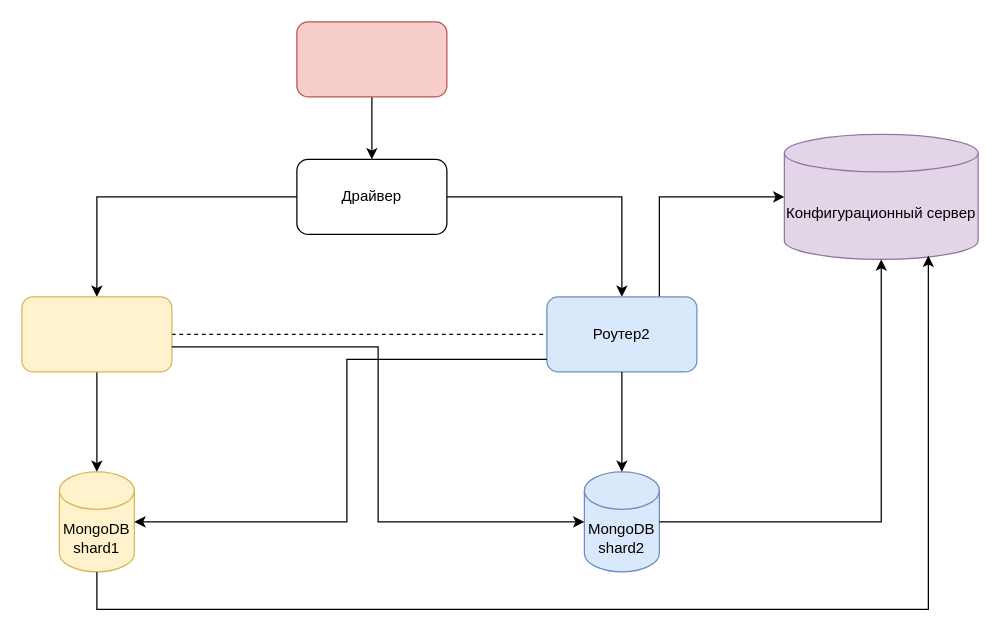
The diagram is 1000 pixels wide and 641 high, and some of its shapes have lost their labels. The centre of each missing label's shape, as x and y in pixels:
"pymongo-api" goes at (371,59).
"Роутер1" goes at (96,334).
